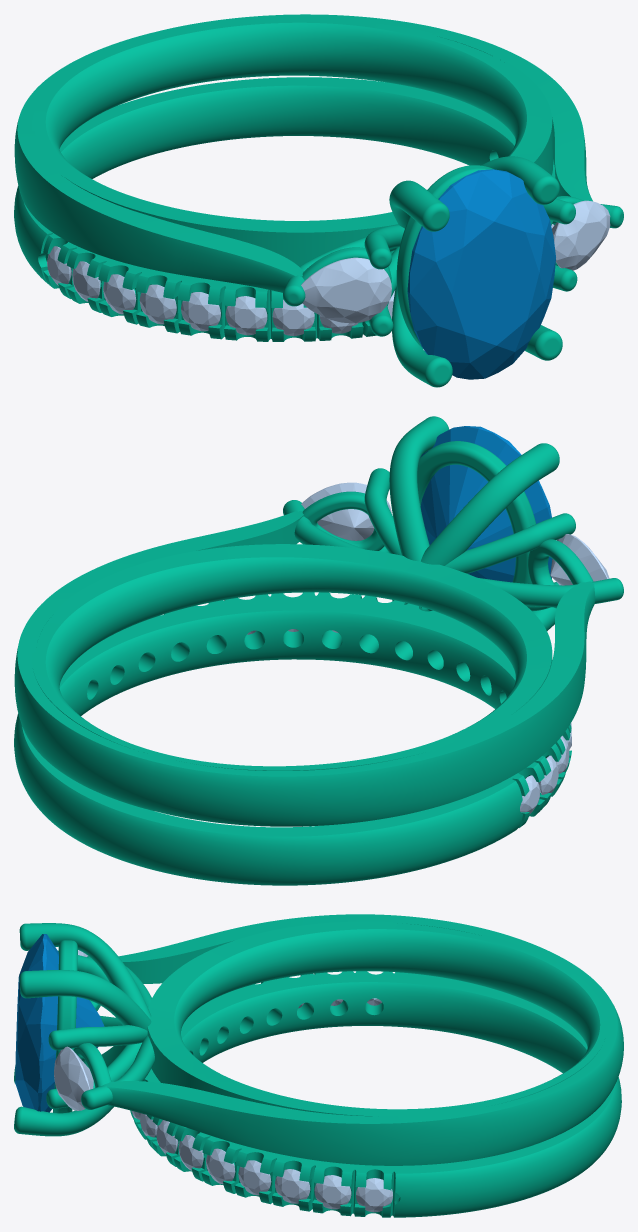
3 views of the same model, one above another, from view 1: azimuth 30°, elevation 25°; view 2: azimuth 150°, elevation 25°; view 3: azimuth 270°, elevation 25° (orthographic). The views are drawn at different scales.
Parts seen in each view (by area): view 1: LR113 5(base).3dm, Diamond_Oval, Diamond_Pear (×2), Diamond_Round (×7); view 2: LR113 5(base).3dm, Diamond_Oval, Diamond_Pear (×2); view 3: LR113 5(base).3dm, Diamond_Oval, Diamond_Round (×7), Diamond_Pear.
Part boxes in pixels (box(x1,y1,x2,y2)): LR113 5(base).3dm: box(14, 14, 623, 387); Diamond_Oval: box(407, 169, 555, 379); Diamond_Pear (×2): box(301, 200, 610, 323); Diamond_Round (×7): box(47, 246, 314, 336); LR113 5(base).3dm: box(14, 416, 623, 885); Diamond_Oval: box(420, 426, 552, 582); Diamond_Pear (×2): box(301, 482, 609, 585); LR113 5(base).3dm: box(14, 914, 623, 1217); Diamond_Oval: box(15, 934, 104, 1112); Diamond_Round (×7): box(156, 1120, 392, 1212); Diamond_Pear: box(54, 1046, 93, 1110).
Bounding box in the file's own units: 2.45 × 1 × 3.
